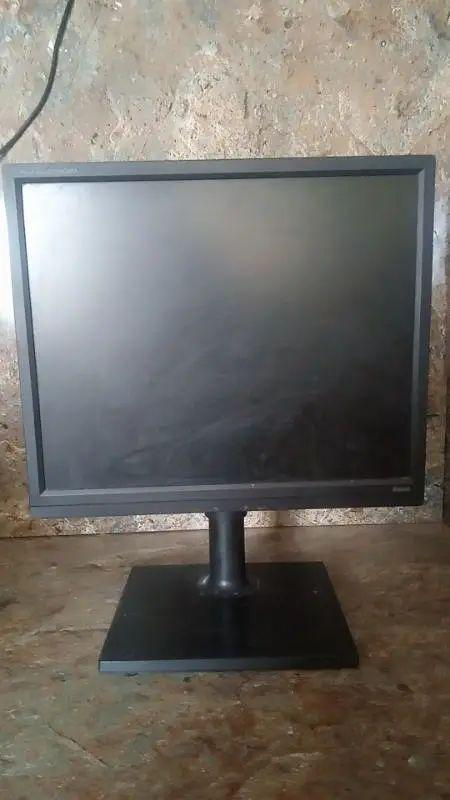electronic: (0, 127, 449, 694)
